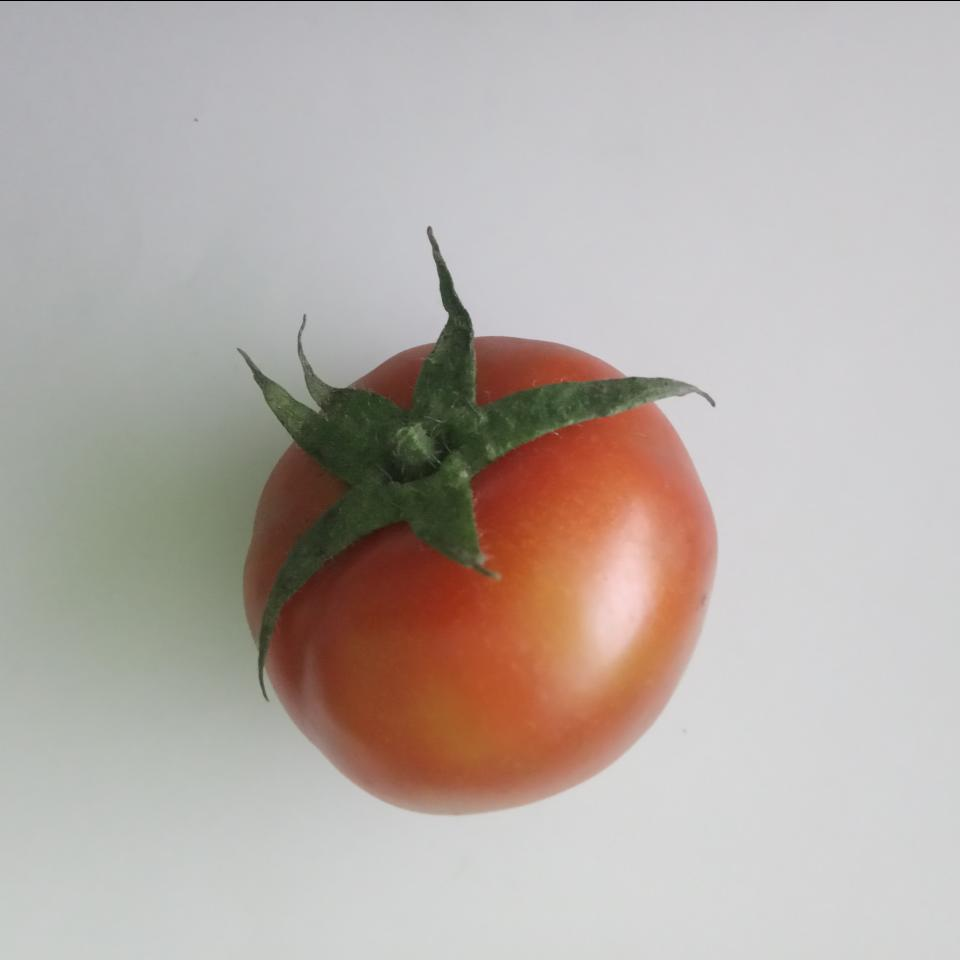Healthy: (232, 322, 728, 826)
